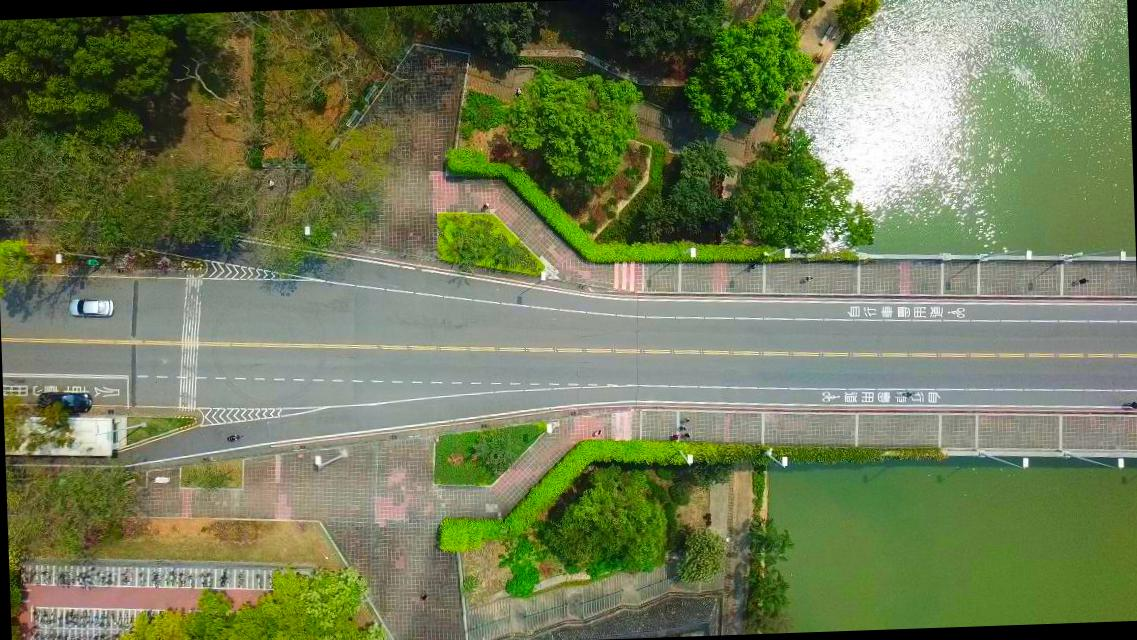vehicle: (36, 390, 91, 414), (68, 296, 114, 318)
